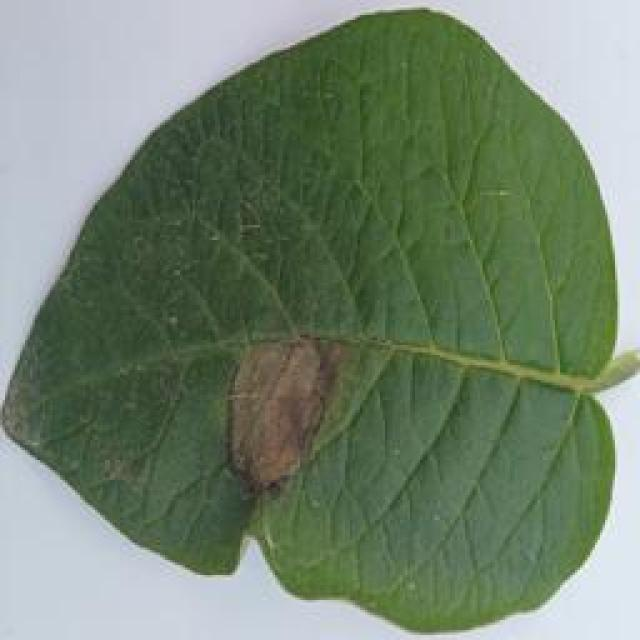Potato_Late_Blight: (3, 9, 620, 629)
